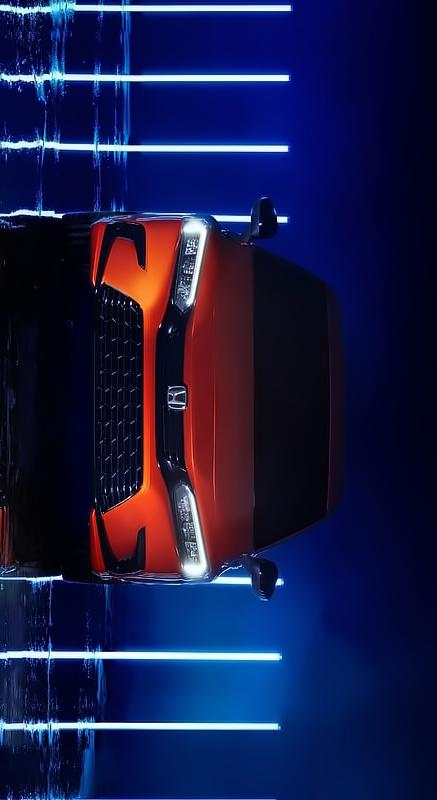Car hood: (180, 212, 262, 575)
Front bumper: (83, 208, 174, 583)
Headlight - -L-: (166, 473, 215, 588)
Headlight - -R-: (168, 211, 212, 319)
Side mirror - -L-: (231, 547, 284, 602)
Side mirror - -R-: (237, 189, 286, 248)
